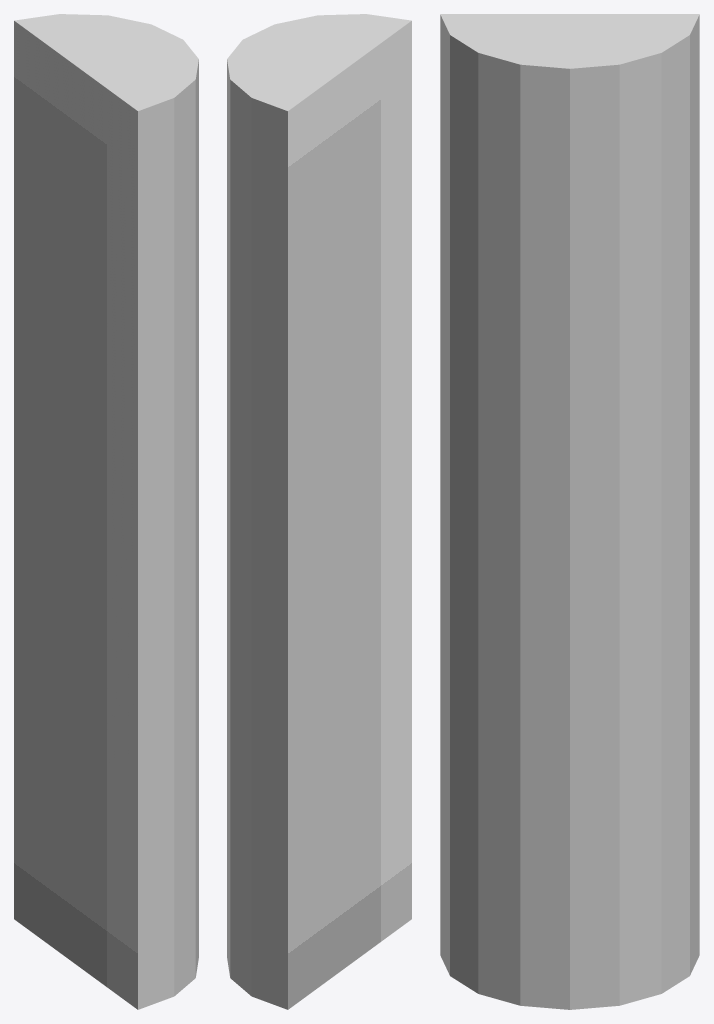
Rendered from end_cap_round_left.obj.
3 views of the same model, side by side, from view 1: azimuth 30°, elevation 25°; view 2: azimuth 150°, elevation 25°; view 3: azimuth 270°, elevation 25° (orthographic). The views are drawn at different scales.
Size of the model in its own units: 0.125 by 1 by 0.25.
